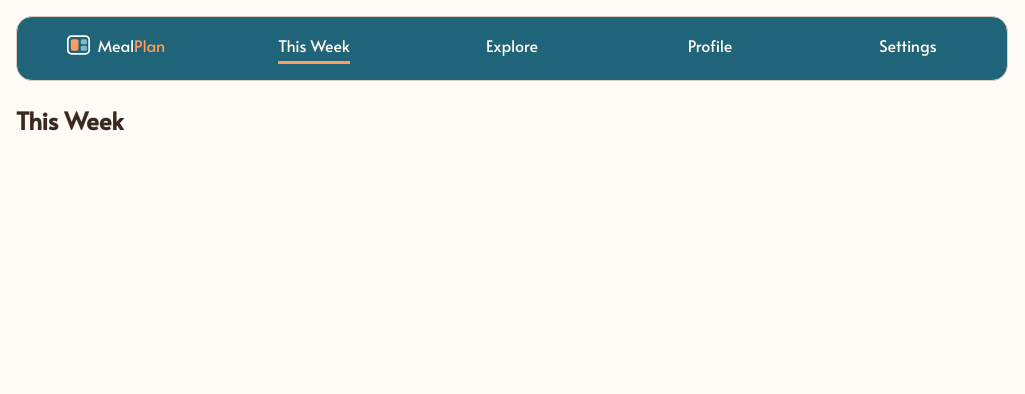
Test: the Sign Out button is disabled while signing out
Check: the element showing "MealPlan This Week Explore Profile Settings" is shown, box [16,16,1008,81]
What coordinates should you click on to do the following:
click the tab "Settings"
I would click on:
 (908, 48)
Its box is [809,17,1007,80].
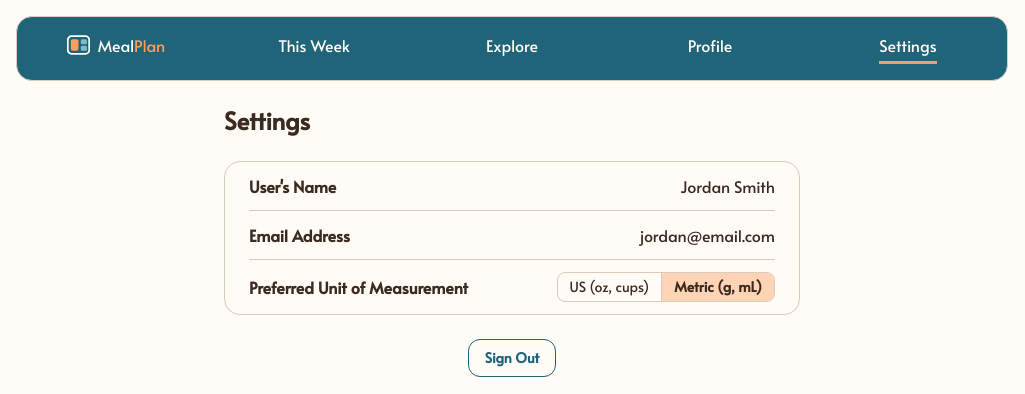
What coordinates should you click on to do the following:
click the button "Sign Out"
I would click on:
 (512, 358)
Its box is [468,339,556,377].
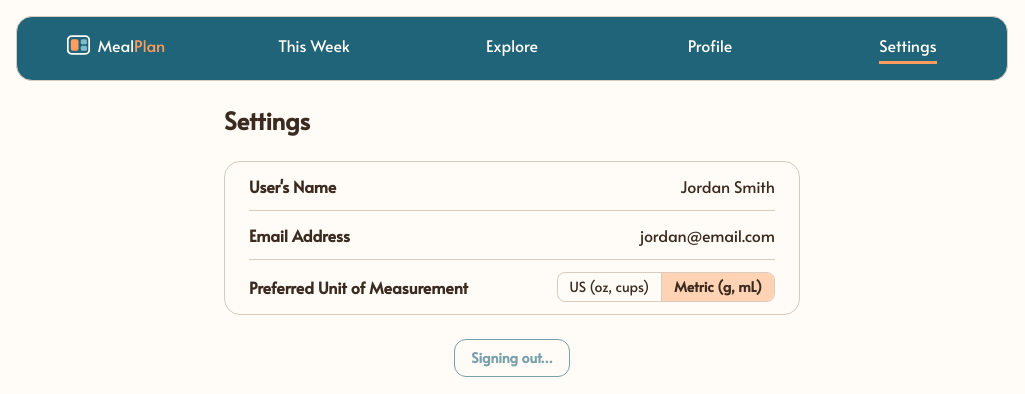
Check: the button "Signing out…" is disabled, box [454,339,570,377]
